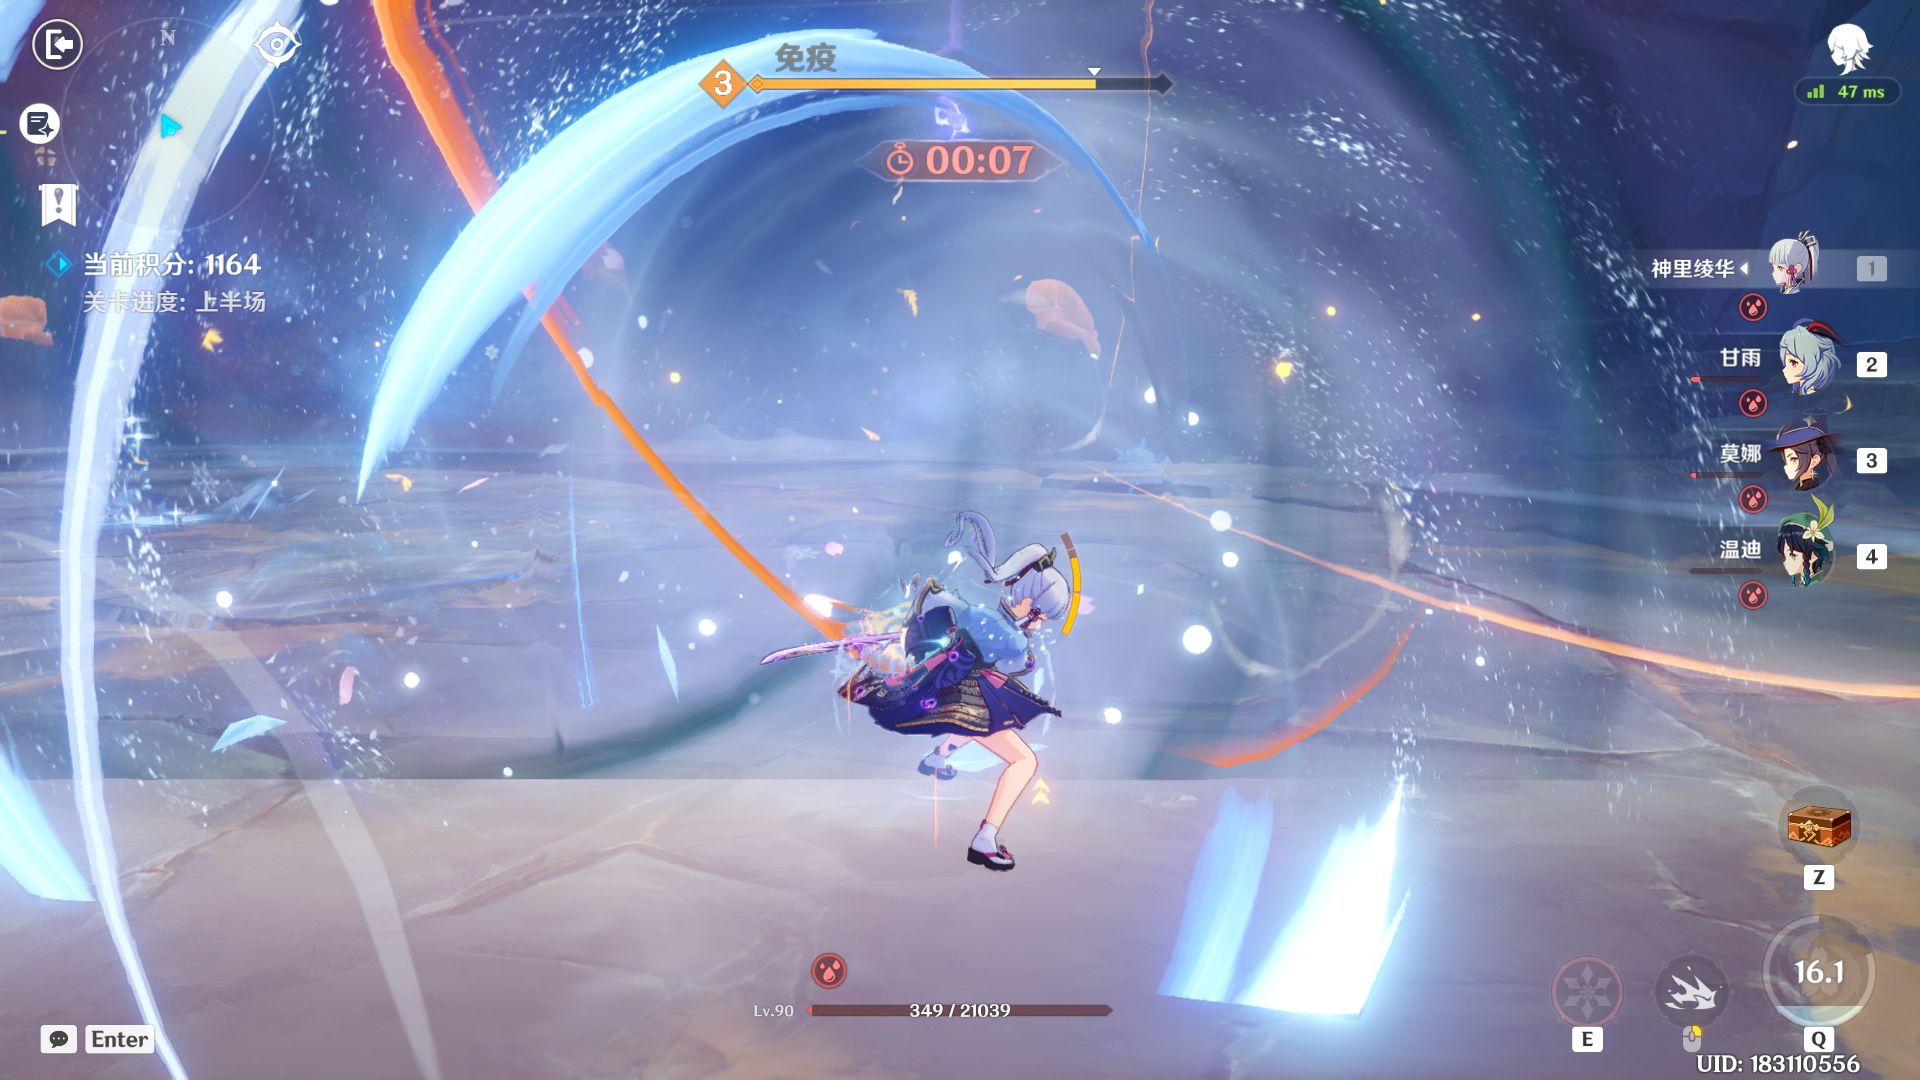character: (796, 510, 1106, 924)
